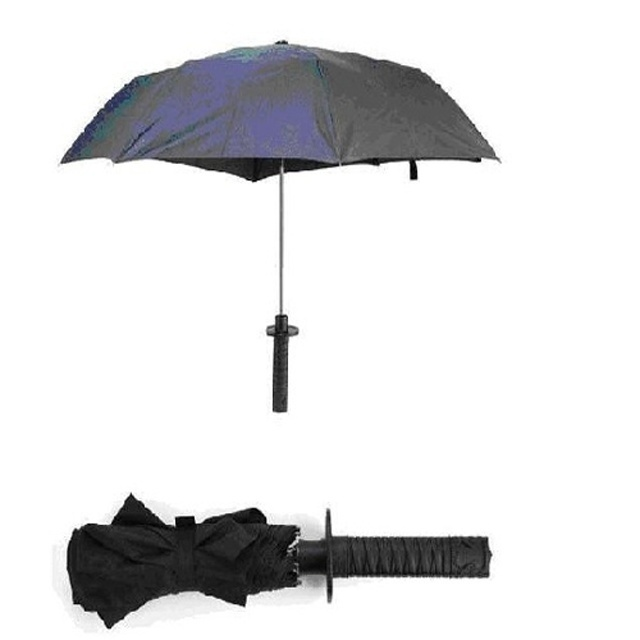umbrella: (57, 39, 503, 417), (65, 491, 494, 631)
